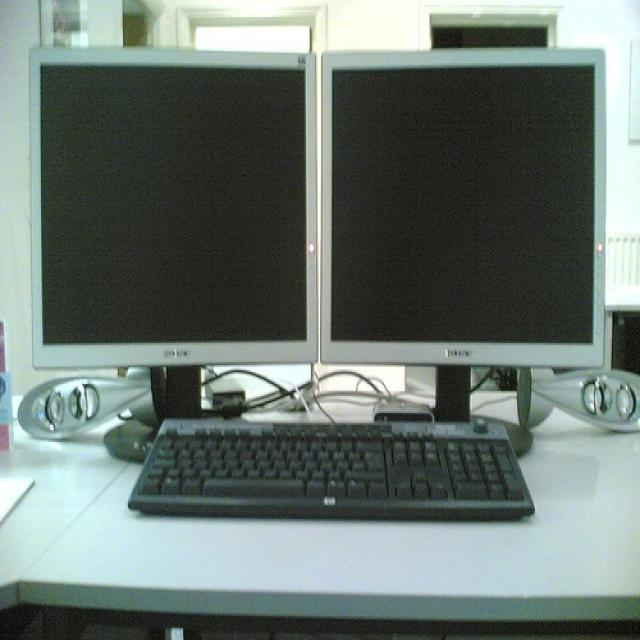tvmonitor: (28, 47, 321, 465), (321, 47, 608, 455)
